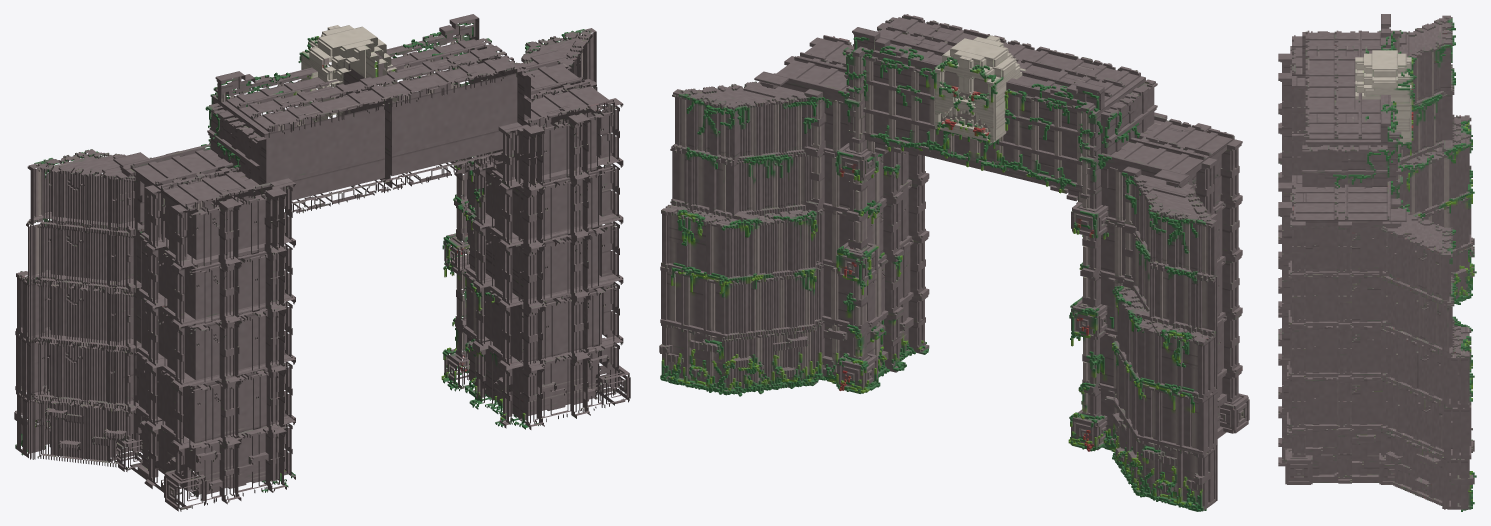
File: Deathgate_state_02.fbx
3 renders of one model, left to right at view 1: azimuth 30°, elevation 25°; view 2: azimuth 150°, elevation 25°; view 3: azimuth 270°, elevation 25°, orthographic. The views are drawn at different scales.
Visible parts, largest first — view 1: deathGate_state_2_part_9, deathGate_state_2, deathGate_state_2_part_10, deathGate_state_2_part_3, deathGate_state_2_part_5, deathGate_state_2_part_1, deathGate_state_2_part_7, deathGate_state_2_part_8, deathGate_state_2_part_2, deathGate_state_2_part, deathGate_state_2_part_4, deathGate_state_2_part_6; view 2: deathGate_state_2_part_10, deathGate_state_2_part_9, deathGate_state_2_part_4, deathGate_state_2, deathGate_state_2_part_2, deathGate_state_2_part, deathGate_state_2_part_8, deathGate_state_2_part_6, deathGate_state_2_part_5, deathGate_state_2_part_1, deathGate_state_2_part_3, deathGate_state_2_part_7; view 3: deathGate_state_2_part_8, deathGate_state_2_part_2, deathGate_state_2_part_4, deathGate_state_2_part, deathGate_state_2_part_6, deathGate_state_2, deathGate_state_2_part_10, deathGate_state_2_part_5, deathGate_state_2_part_9, deathGate_state_2_part_7, deathGate_state_2_part_3, deathGate_state_2_part_1.
Part boxes in pixels (bbox=[...]): deathGate_state_2_part_9: bbox=[27, 103, 280, 267]; deathGate_state_2: bbox=[332, 14, 537, 189]; deathGate_state_2_part_10: bbox=[208, 26, 392, 249]; deathGate_state_2_part_3: bbox=[15, 319, 295, 449]; deathGate_state_2_part_5: bbox=[16, 270, 295, 387]; deathGate_state_2_part_1: bbox=[14, 385, 295, 511]; deathGate_state_2_part_7: bbox=[26, 202, 295, 327]; deathGate_state_2_part_8: bbox=[472, 28, 623, 187]; deathGate_state_2_part_2: bbox=[443, 253, 623, 371]; deathGate_state_2_part: bbox=[441, 312, 630, 429]; deathGate_state_2_part_4: bbox=[442, 196, 623, 309]; deathGate_state_2_part_6: bbox=[450, 81, 623, 248]; deathGate_state_2_part_10: bbox=[964, 36, 1160, 219]; deathGate_state_2_part_9: bbox=[1089, 79, 1242, 271]; deathGate_state_2_part_4: bbox=[661, 175, 929, 280]; deathGate_state_2: bbox=[842, 14, 1020, 168]; deathGate_state_2_part_2: bbox=[660, 233, 929, 339]; deathGate_state_2_part: bbox=[659, 293, 929, 396]; deathGate_state_2_part_8: bbox=[672, 17, 896, 159]; deathGate_state_2_part_6: bbox=[670, 140, 929, 216]; deathGate_state_2_part_5: bbox=[1069, 252, 1242, 394]; deathGate_state_2_part_1: bbox=[1068, 369, 1249, 511]; deathGate_state_2_part_3: bbox=[1070, 310, 1242, 455]; deathGate_state_2_part_7: bbox=[1071, 195, 1242, 328]; deathGate_state_2_part_8: bbox=[1278, 145, 1455, 299]; deathGate_state_2_part_2: bbox=[1278, 341, 1474, 458]; deathGate_state_2_part_4: bbox=[1278, 288, 1472, 404]; deathGate_state_2_part: bbox=[1278, 395, 1476, 511]; deathGate_state_2_part_6: bbox=[1278, 232, 1455, 351]; deathGate_state_2: bbox=[1278, 59, 1416, 198]; deathGate_state_2_part_10: bbox=[1278, 14, 1416, 133]; deathGate_state_2_part_5: bbox=[1278, 114, 1472, 231]; deathGate_state_2_part_9: bbox=[1278, 15, 1455, 99]; deathGate_state_2_part_7: bbox=[1278, 64, 1455, 179]; deathGate_state_2_part_3: bbox=[1278, 165, 1474, 281]; deathGate_state_2_part_1: bbox=[1278, 237, 1476, 334].
Size of the model in its own units: 334 by 215 by 116.
Materials: 1 (1 with a texture image).
